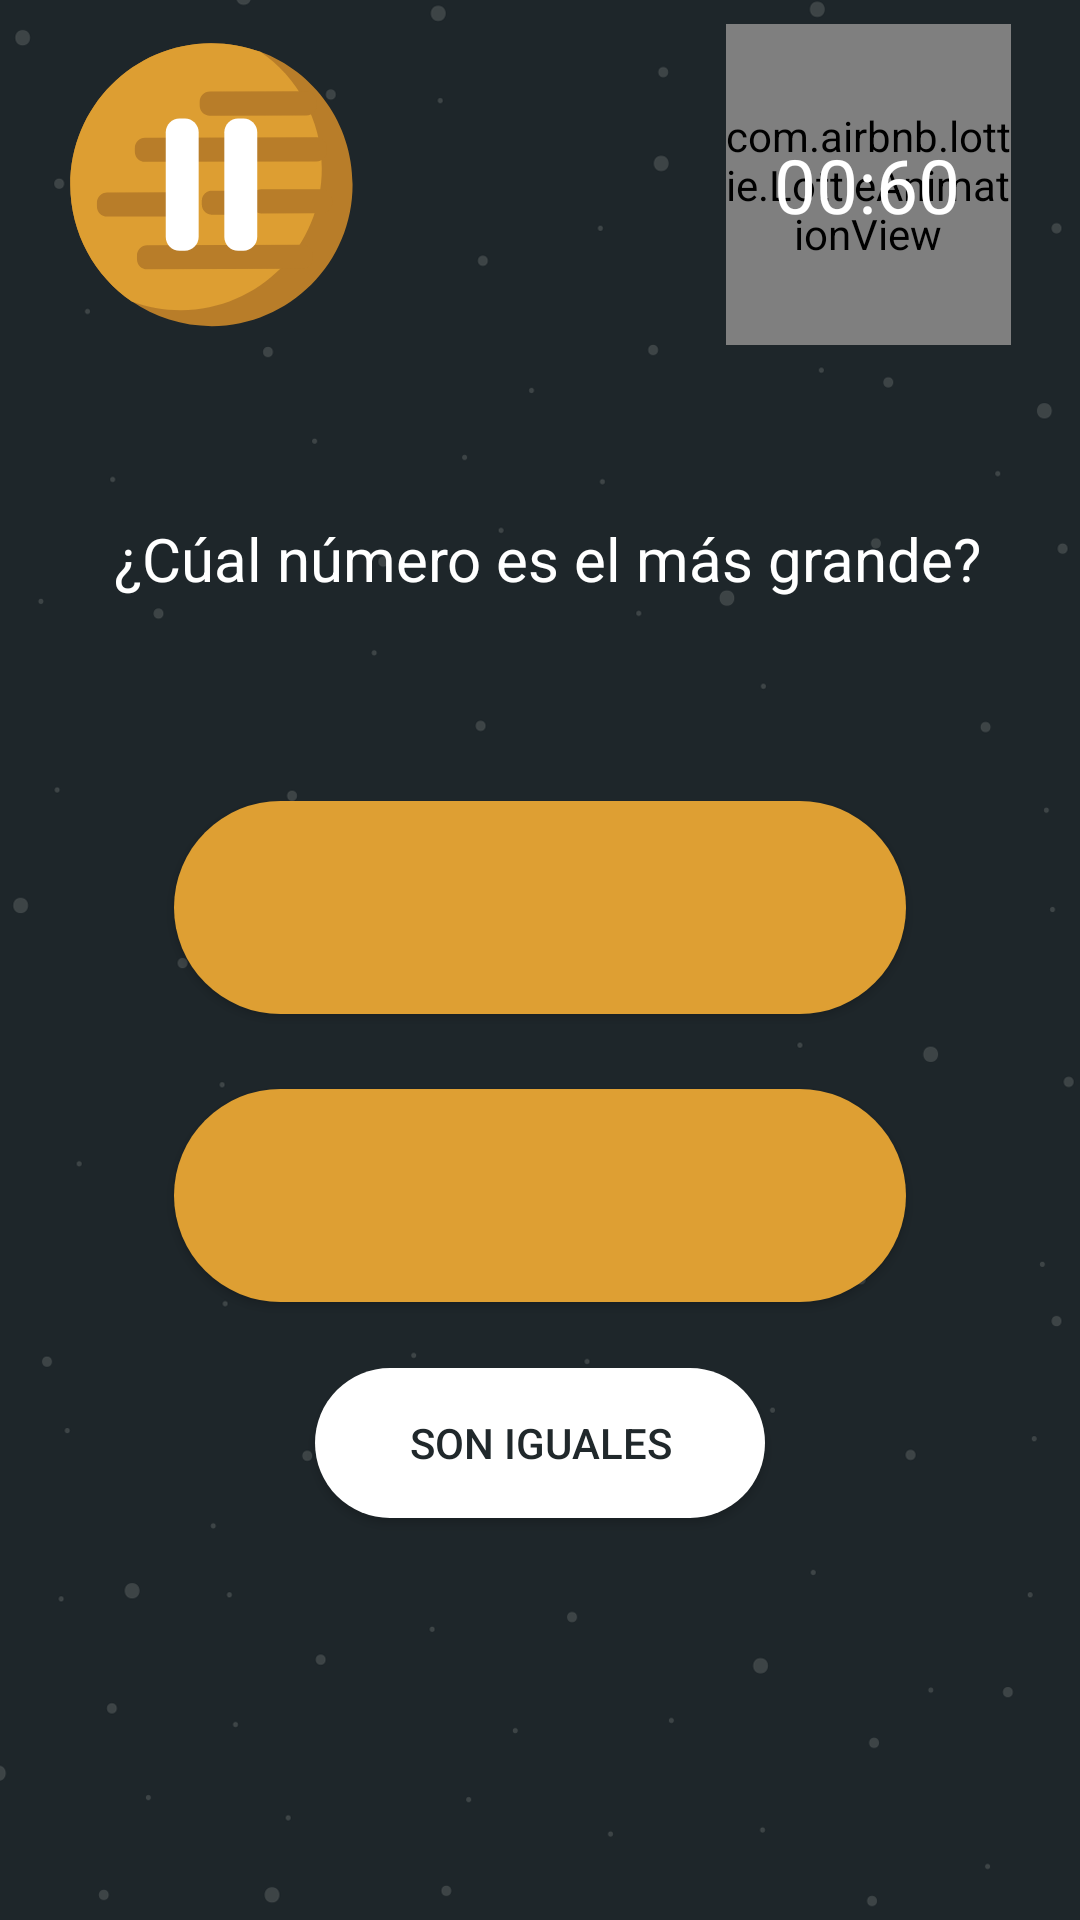

Locate icon controls on the screen. Image size 1080 × 1920, boxes as (x1, y1, x2, y2).
pausa: (70, 43, 353, 327)
